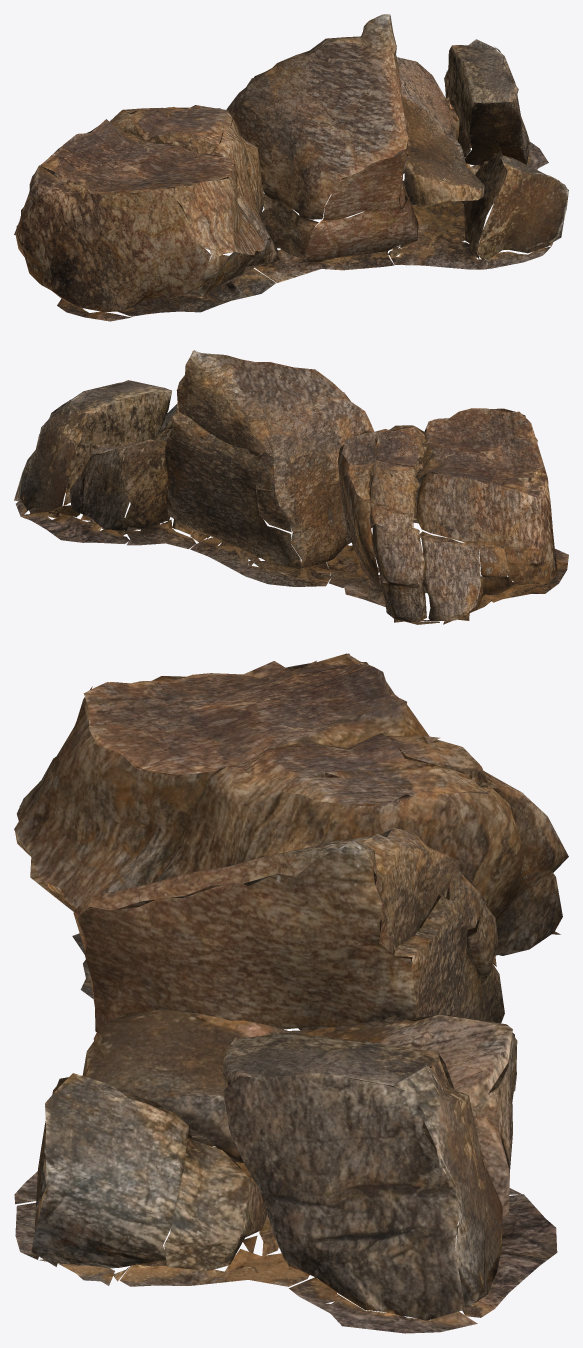
Rendered from namaqualand_boulder_02_0.glb.
The picture shows the model from 3 angles, top to bottom: view 1: azimuth 30°, elevation 25°; view 2: azimuth 150°, elevation 25°; view 3: azimuth 270°, elevation 25°; orthographic projection. The views are drawn at different scales.
Visible parts, largest first — view 1: boulder_02; view 2: boulder_02; view 3: boulder_02.
Boxes of the visible parts, left/top/right/bottom form: boulder_02: left=14, top=14, right=568, bottom=321; boulder_02: left=14, top=350, right=568, bottom=624; boulder_02: left=14, top=653, right=568, bottom=1333.
Bounding box in the file's own units: 2.52 × 0.8766 × 1.24.
Materials: 1 (1 with a texture image).
